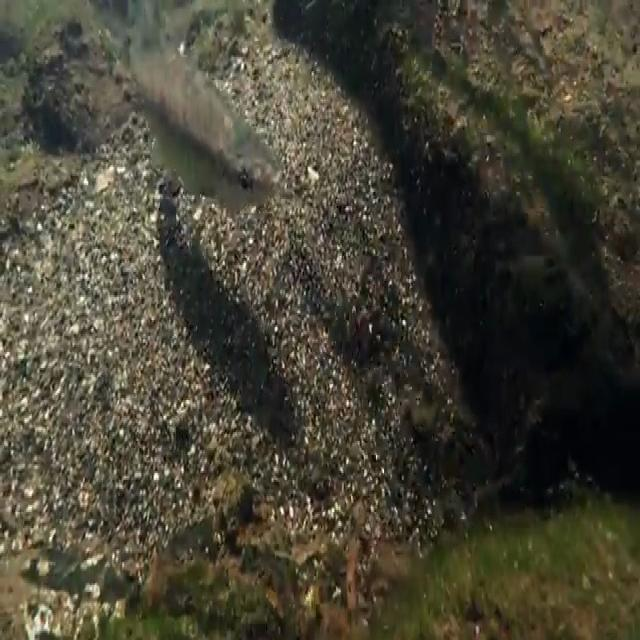Cakil Baligi: (116, 26, 286, 214)
